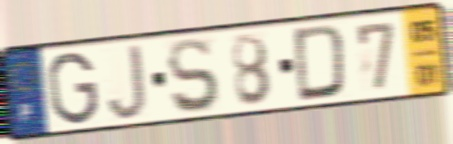7: (352, 18, 396, 94)
8: (229, 32, 273, 108)
D: (291, 22, 348, 105)
G: (45, 49, 101, 128)
J: (105, 42, 149, 123)
S: (164, 35, 222, 116)
